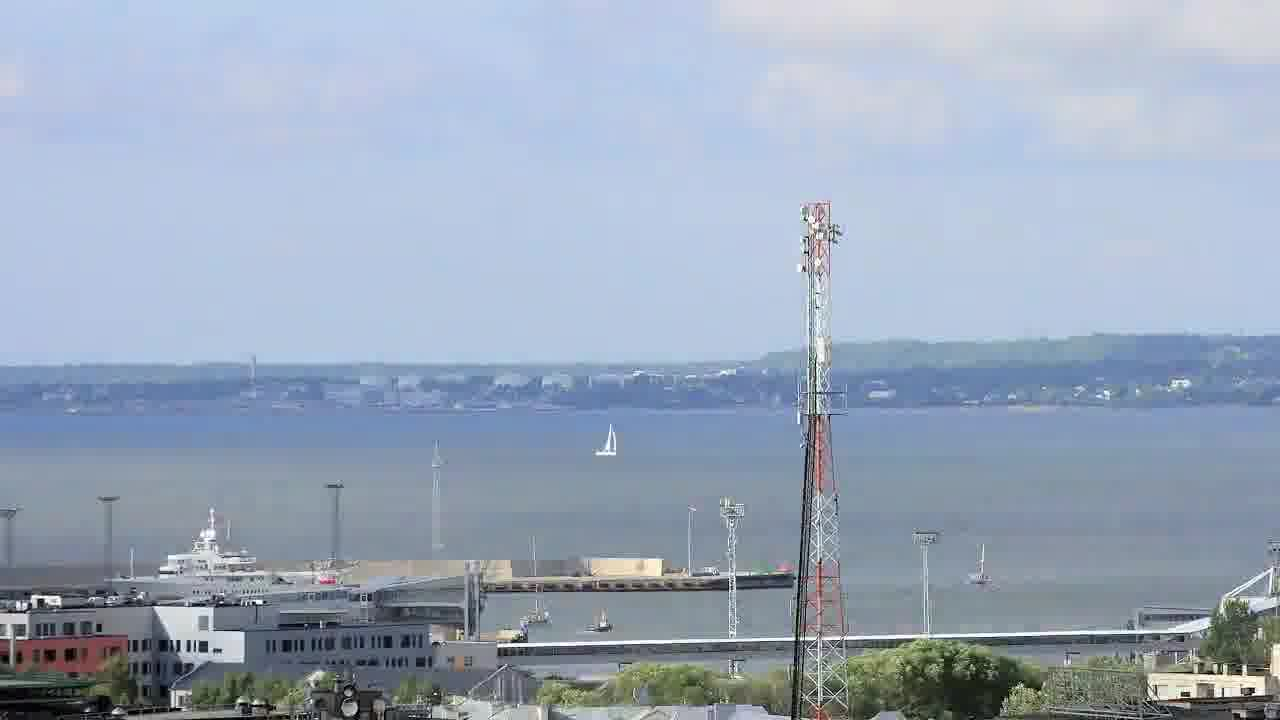type-0: (955, 553, 1027, 601), (512, 581, 554, 636), (581, 598, 622, 639)
type-2: (579, 411, 632, 464)
type-3: (98, 503, 361, 603)
